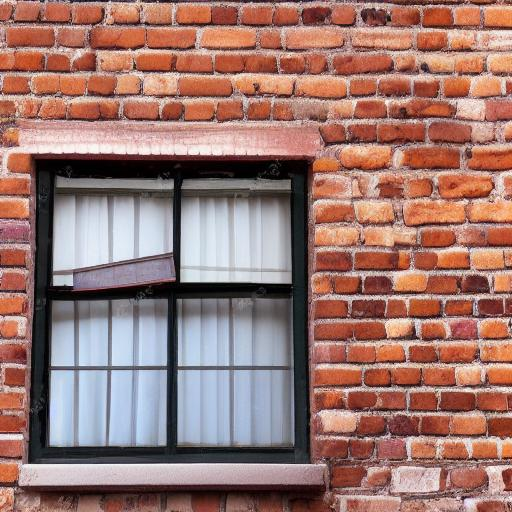Window: (17, 124, 332, 493)
